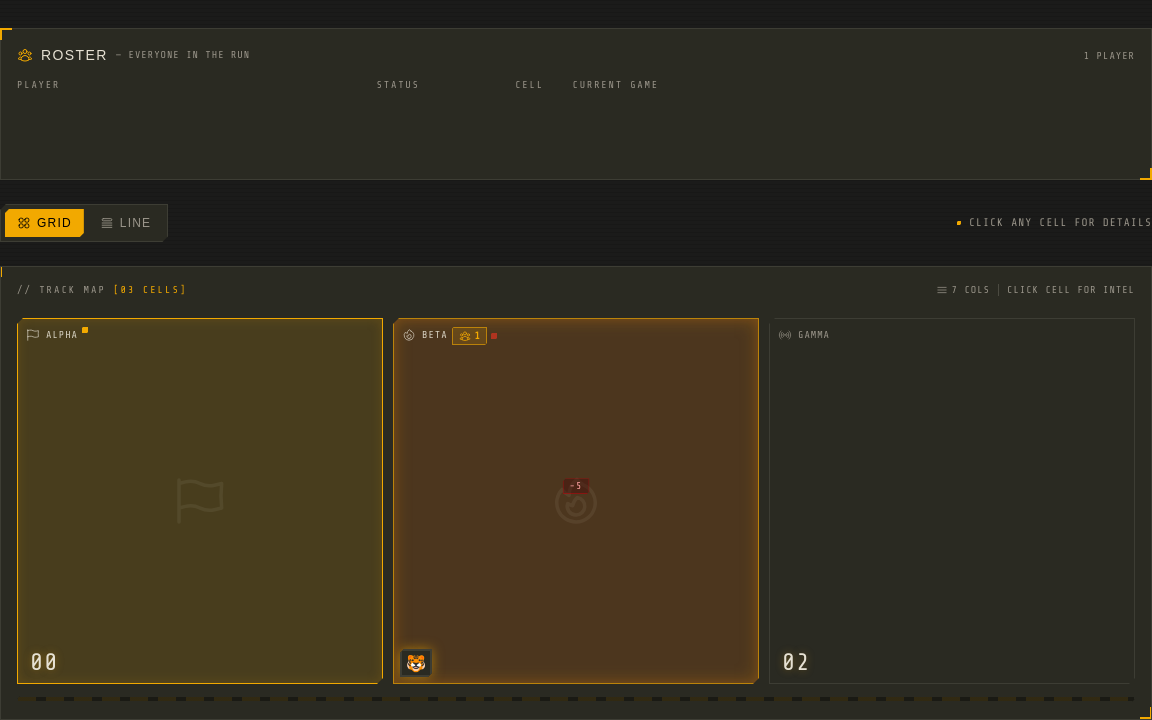
BoardView cell details › opens the details modal with the effect and occupants
(page scrolled)
Click the button "Beta 1 -5 🐯 01" at (576, 501), box [393,318,759,684]
(page scrolled)
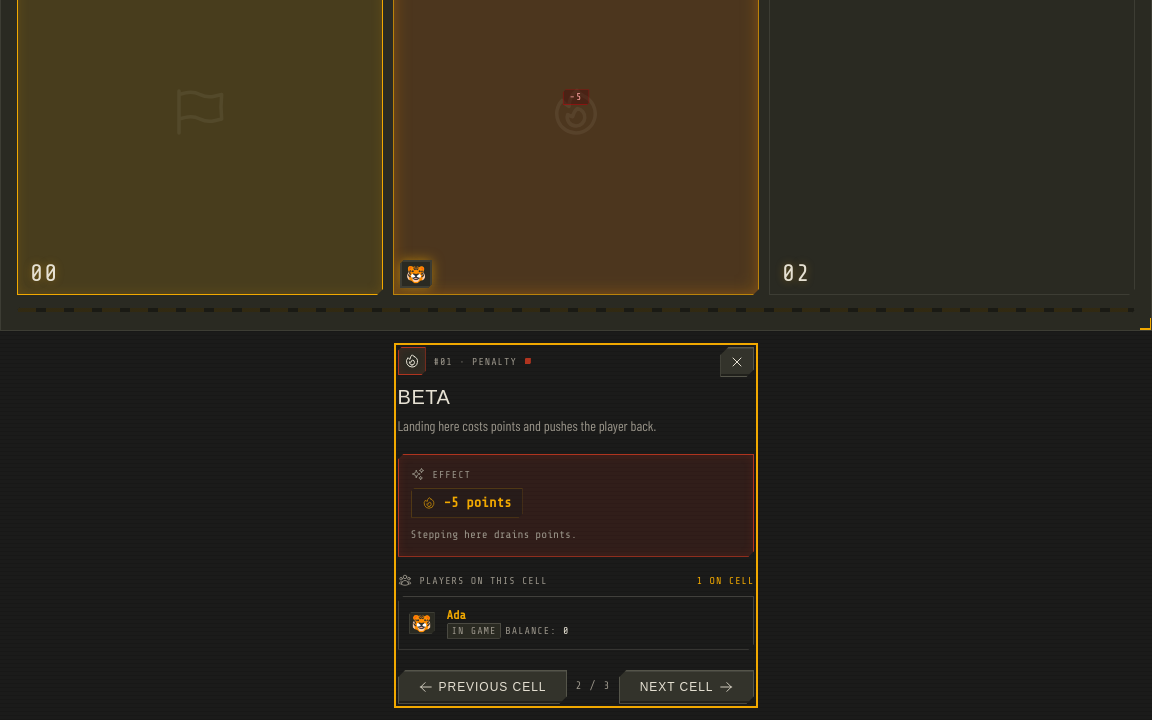
Result: the text "Landing here costs points and pushes the player back." is shown at [398,417,656,434]
Result: the dialog shows "Ada" at [446,607,743,623]
